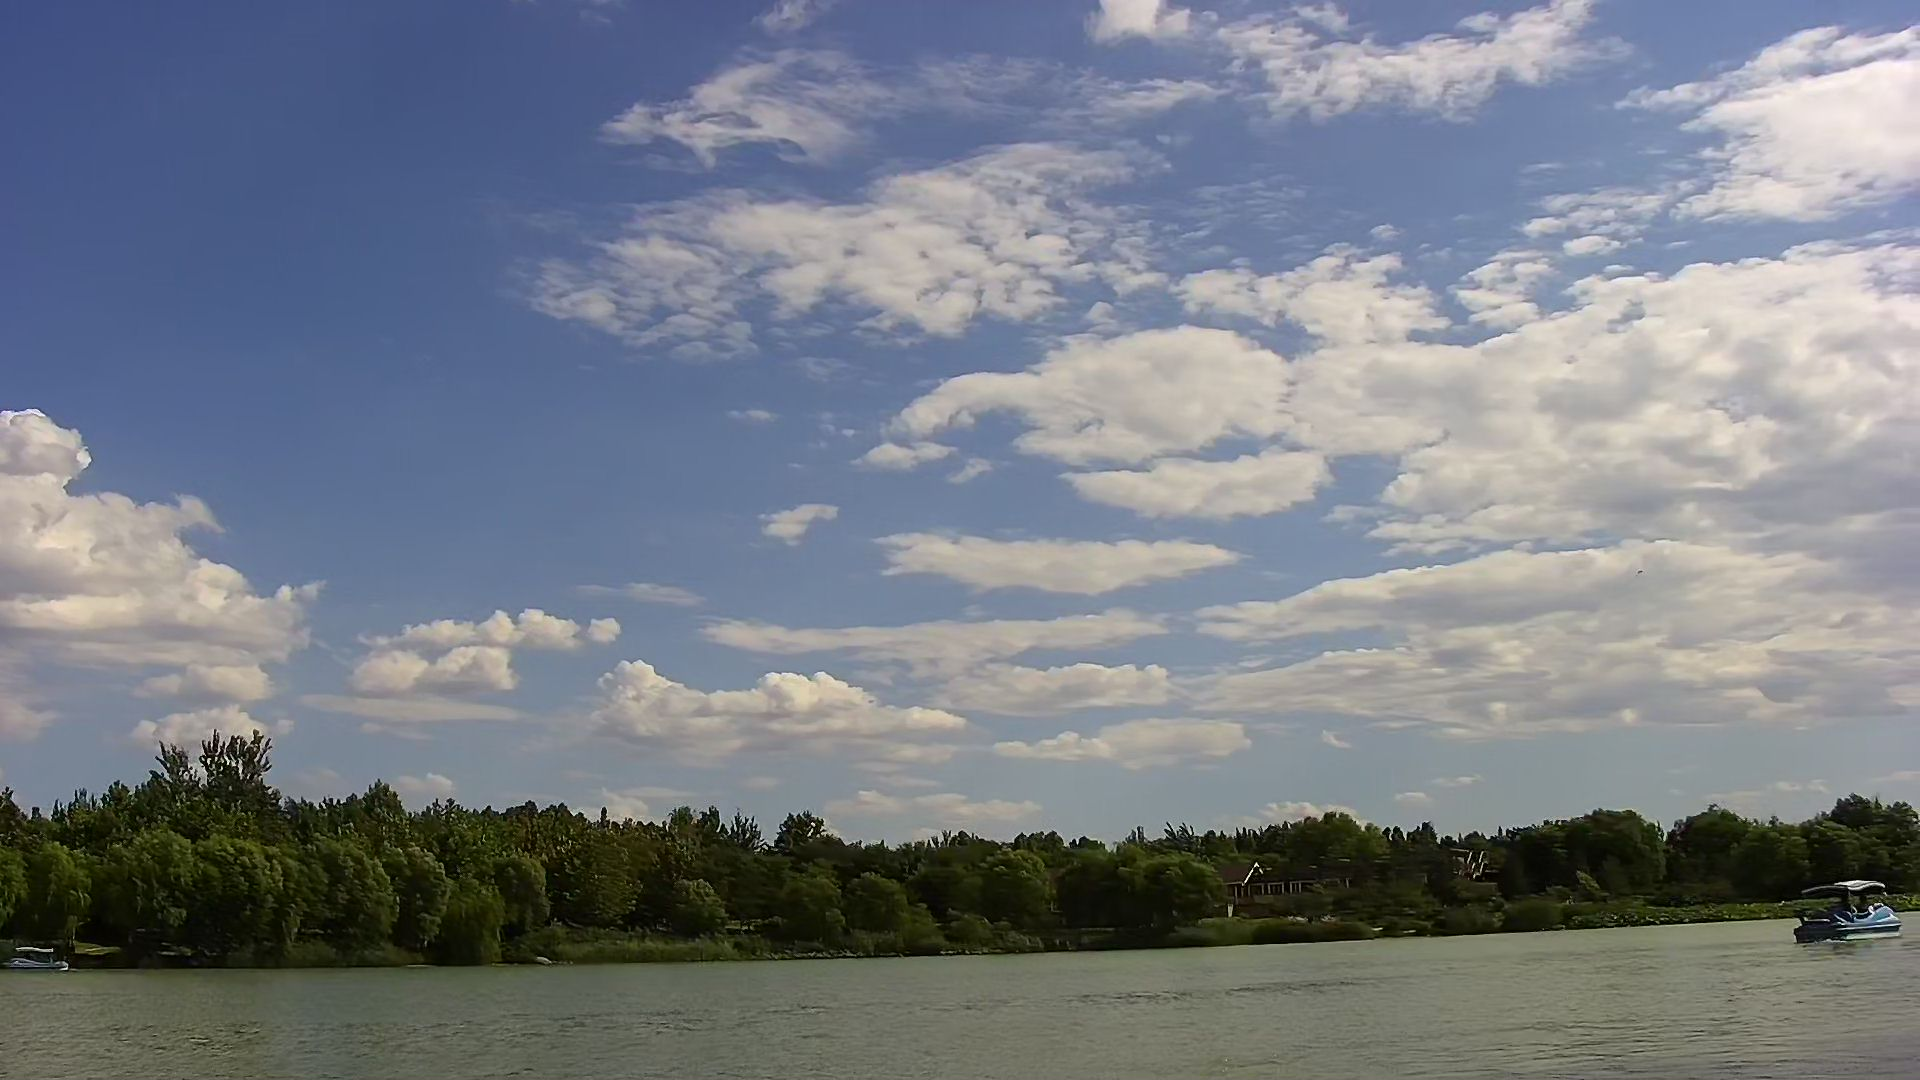boat: (1791, 877, 1905, 948), (1, 945, 73, 977)
